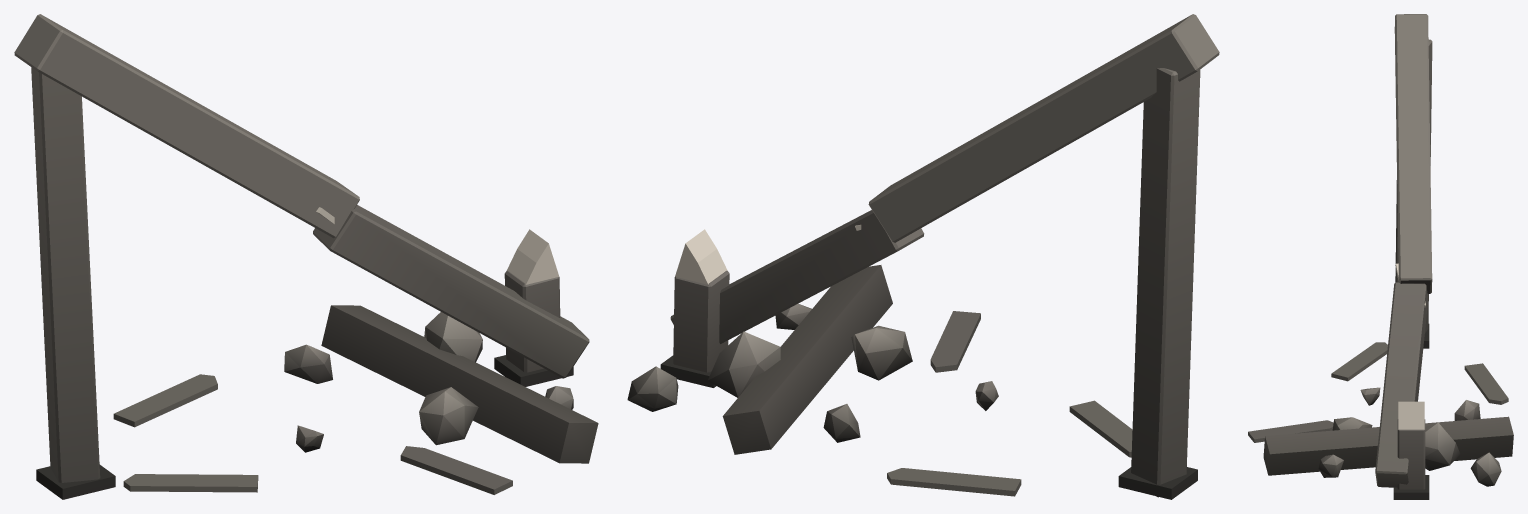
The model's file is SM_VKI_Prop_Mine_Set_Broken.fbx.
The picture shows the model from 3 angles, left to right: view 1: azimuth 30°, elevation 25°; view 2: azimuth 150°, elevation 25°; view 3: azimuth 270°, elevation 25°; orthographic projection. The views are drawn at different scales.
Parts seen in each view (by area): view 1: SM_VKI_Prop_Mine_Set_Broken.001; view 2: SM_VKI_Prop_Mine_Set_Broken.001; view 3: SM_VKI_Prop_Mine_Set_Broken.001.
Part boxes in pixels (bbox=[...]): SM_VKI_Prop_Mine_Set_Broken.001: bbox=[14, 14, 598, 499]; SM_VKI_Prop_Mine_Set_Broken.001: bbox=[627, 14, 1219, 499]; SM_VKI_Prop_Mine_Set_Broken.001: bbox=[1248, 14, 1513, 499].
Bounding box in the file's own units: 3.08 × 2.55 × 1.93.
